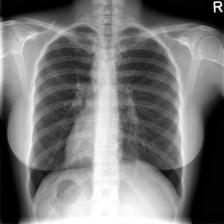normal: (22, 18, 187, 202)
